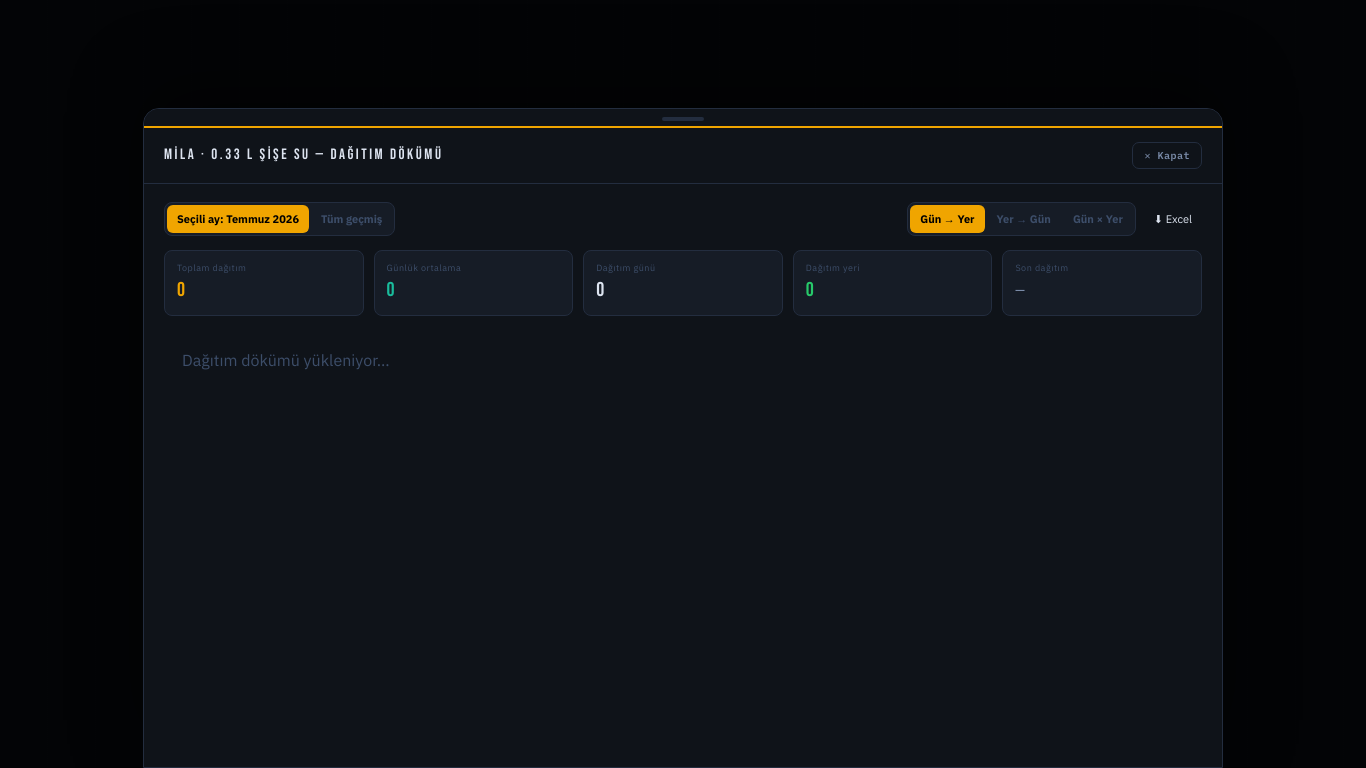
Test: ProductDistributionModal › Gün × Yer matrisi gün satırı ve yer sütunu üretir
What coordinates should you click on to do the following:
click the button "Gün × Yer"
I would click on:
 (1098, 219)
Its box is x1=1063 y1=204 x2=1133 y2=233.
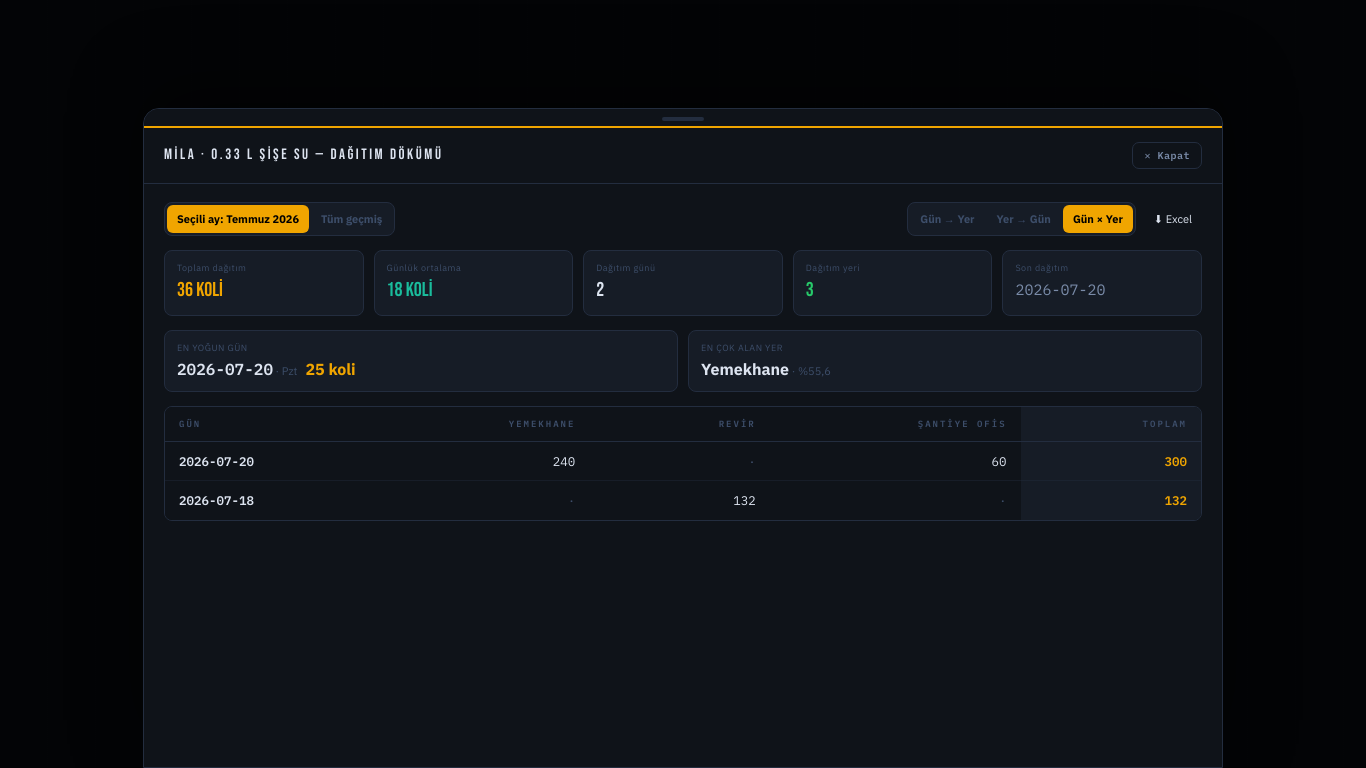
Check: the text "Toplam dağıtım" is shown, box x1=177 y1=262 x2=246 y2=273
Check: the text "Yemekhane" is shown, box x1=701 y1=359 x2=789 y2=379
